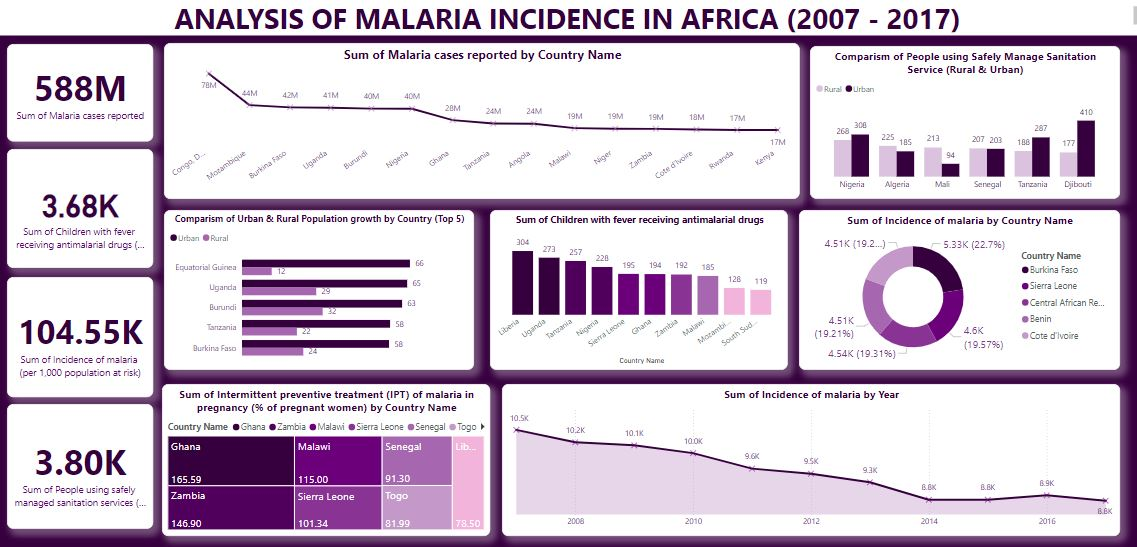

The dashboard page shown, as its layout file describes it:
{"tool":"powerbi","page":{"name":"Page 1","canvas":[1760,840],"ordinal":0},"visuals":[{"type":"shape","box":[0,0,1760,920],"z":0},{"type":"textbox","box":[0,0,1760,50],"z":1000},{"type":"lineChart","fields":{"Category":["DatasetAfricaMalaria today.Country Name"],"Y":["Sum(DatasetAfricaMalaria today.Malaria cases reported)"]},"box":[254.6,61.7,978.3,240],"z":2000},{"type":"clusteredColumnChart","title":"Comparism of People using Safely Manage Sanitation Service (Rural & Urban)","fields":{"Category":["DatasetAfricaMalaria today.Country Name"],"Y":["Sum(DatasetAfricaMalaria today.People using safely managed sanitation services, rural (% of rural population))","Sum(DatasetAfricaMalaria today.People using safely managed sanitation services, urban  (% of urban population))"]},"box":[1249.6,66.7,476.7,235],"z":3000},{"type":"clusteredBarChart","title":"Comparism of Urban & Rural Population growth by Country (Top 5)","fields":{"Category":["DatasetAfricaMalaria today.Country Name"],"Y":["Sum(DatasetAfricaMalaria today.Urban population growth (annual %))","Sum(DatasetAfricaMalaria today.Rural population growth (annual %))"]},"box":[255.4,318.5,476.9,246.2],"z":4000},{"type":"donutChart","title":"Sum of Incidence of malaria  by Country Name","fields":{"Category":["DatasetAfricaMalaria today.Country Name"],"Y":["Sum(DatasetAfricaMalaria today.Incidence of malaria (per 1,000 population at risk))"]},"box":[1232.3,318.5,493.8,246.2],"z":5000},{"type":"clusteredColumnChart","title":"Sum of Children with fever receiving antimalarial drugs ","fields":{"Category":["DatasetAfricaMalaria today.Country Name"],"Y":["Sum(DatasetAfricaMalaria today.Children with fever receiving antimalarial drugs (% of children under age 5 with fever))"]},"box":[756.9,318.5,458.5,246.2],"z":6000},{"type":"treemap","fields":{"Group":["DatasetAfricaMalaria today.Country Name"],"Values":["Sum(DatasetAfricaMalaria today.Intermittent preventive treatment (IPT) of malaria in pregnancy (% of pregnant women))"]},"box":[252.3,586.2,504.6,233.8],"z":7000},{"type":"areaChart","title":"Sum of Incidence of malaria by Year","fields":{"Category":["DatasetAfricaMalaria today.Year"],"Y":["Sum(DatasetAfricaMalaria today.Incidence of malaria (per 1,000 population at risk))"]},"box":[775.4,586.2,950.8,233.8],"z":8000},{"type":"card","fields":{"Values":["Sum(DatasetAfricaMalaria today.Malaria cases reported)"]},"box":[13.3,63.3,225,150],"z":9000},{"type":"card","fields":{"Values":["Sum(DatasetAfricaMalaria today.Children with fever receiving antimalarial drugs (% of children under age 5 with fever))"]},"box":[13.3,225,225,183.3],"z":10000},{"type":"card","fields":{"Values":["Sum(DatasetAfricaMalaria today.Incidence of malaria (per 1,000 population at risk))"]},"box":[13.3,421.7,225,185],"z":11000},{"type":"card","fields":{"Values":["Sum(DatasetAfricaMalaria today.People using safely managed sanitation services (% of population))"]},"box":[13.3,616.7,225,191.7],"z":12000}]}

Visuals, with their boxes in screenshot pixels (x1, y1, x2, y2), scaled from the page's 1760x840 canvas onto the 1137x547 screenshot:
shape: 0 0 1136 546
textbox: 0 0 1136 33
lineChart - DatasetAfricaMalaria today.Country Name x Sum(DatasetAfricaMalaria today.Malaria cases reported): 164 40 796 196
"Comparism of People using Safely Manage Sanitation Service (Rural & Urban)" clusteredColumnChart: 807 43 1115 196
"Comparism of Urban & Rural Population growth by Country (Top 5)" clusteredBarChart: 165 207 473 368
"Sum of Incidence of malaria  by Country Name" donutChart: 796 207 1115 368
"Sum of Children with fever receiving antimalarial drugs " clusteredColumnChart: 489 207 785 368
treemap - DatasetAfricaMalaria today.Country Name x Sum(DatasetAfricaMalaria today.Intermittent preventive treatment (IPT) of malaria in pregnancy (% of pregnant women)): 163 382 489 534
"Sum of Incidence of malaria by Year" areaChart: 501 382 1115 534
card - Sum(DatasetAfricaMalaria today.Malaria cases reported): 9 41 154 139
card - Sum(DatasetAfricaMalaria today.Children with fever receiving antimalarial drugs (% of children under age 5 with fever)): 9 147 154 266
card - Sum(DatasetAfricaMalaria today.Incidence of malaria (per 1,000 population at risk)): 9 275 154 395
card - Sum(DatasetAfricaMalaria today.People using safely managed sanitation services (% of population)): 9 402 154 526
